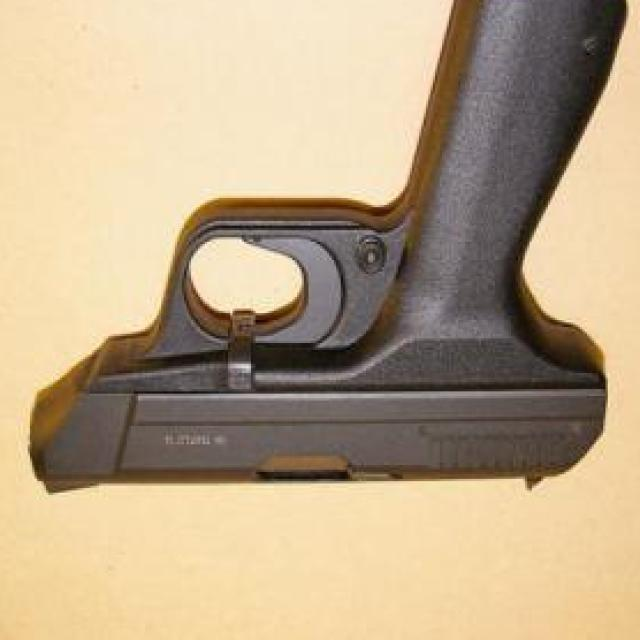pistol: (30, 0, 628, 495)
